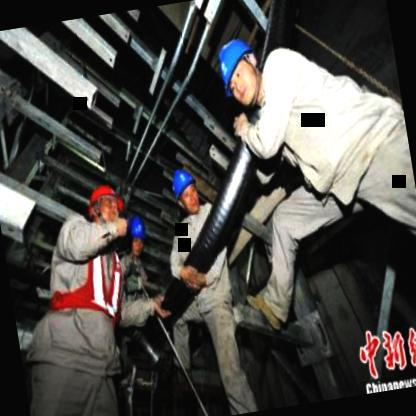helmet: (210, 30, 269, 110), (84, 182, 129, 230), (166, 162, 203, 216), (123, 213, 150, 262)
